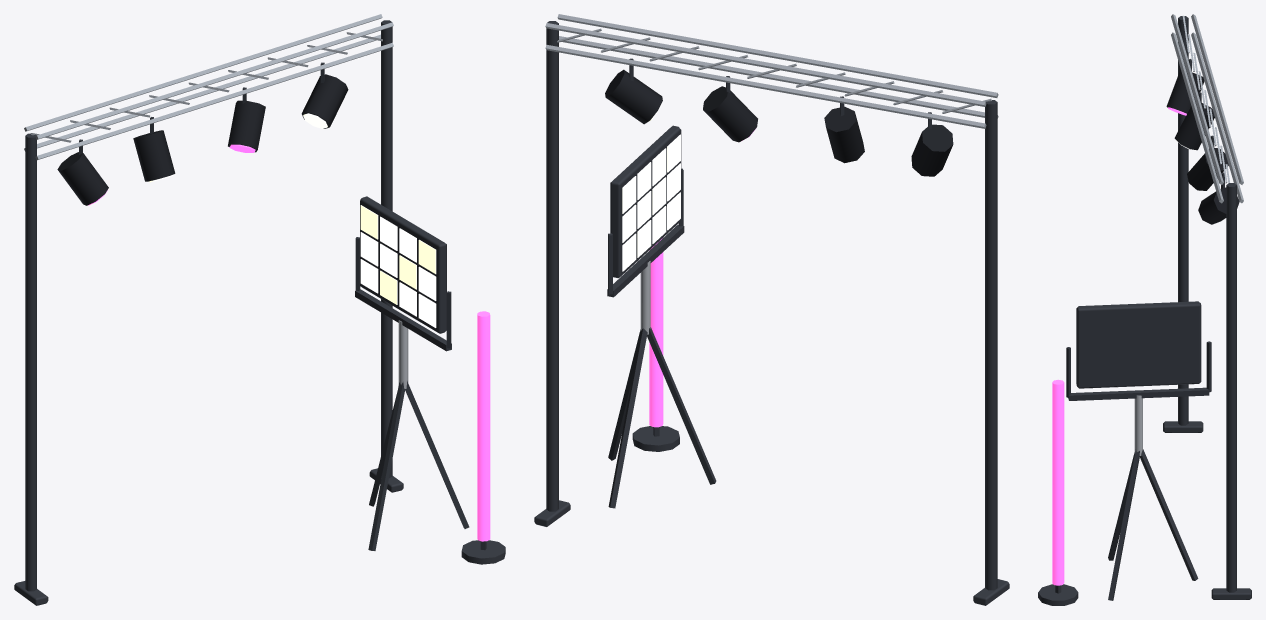
The model's file is station_buffer_ausstattung_2_3.glb.
The picture shows the model from 3 angles, left to right: view 1: azimuth 30°, elevation 25°; view 2: azimuth 150°, elevation 25°; view 3: azimuth 270°, elevation 25°; orthographic projection. The views are drawn at different scales.
Visible parts, largest first — view 1: station_buffer_ausstattung_2_3; view 2: station_buffer_ausstattung_2_3; view 3: station_buffer_ausstattung_2_3.
Part boxes in pixels (left/top/right/bottom): station_buffer_ausstattung_2_3: left=14, top=14, right=505, bottom=605; station_buffer_ausstattung_2_3: left=534, top=14, right=1009, bottom=605; station_buffer_ausstattung_2_3: left=1038, top=14, right=1251, bottom=605.
Bounding box in the file's own units: 2.09 × 2.28 × 1.06.
